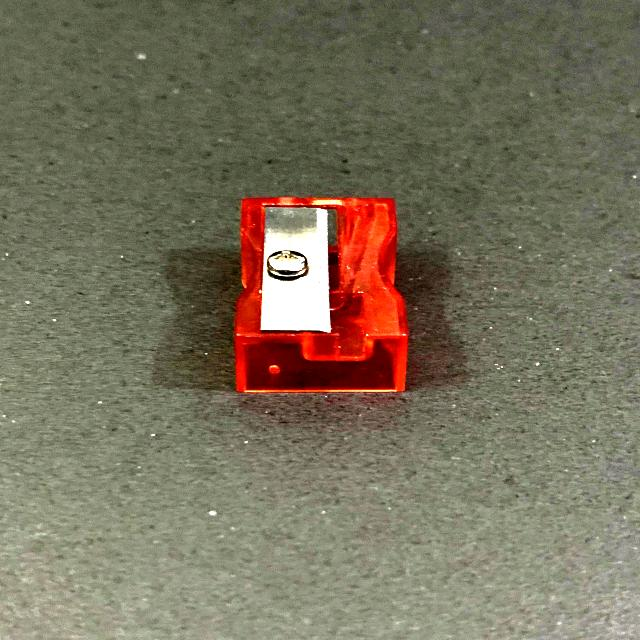Sharpner: (199, 169, 463, 417)
